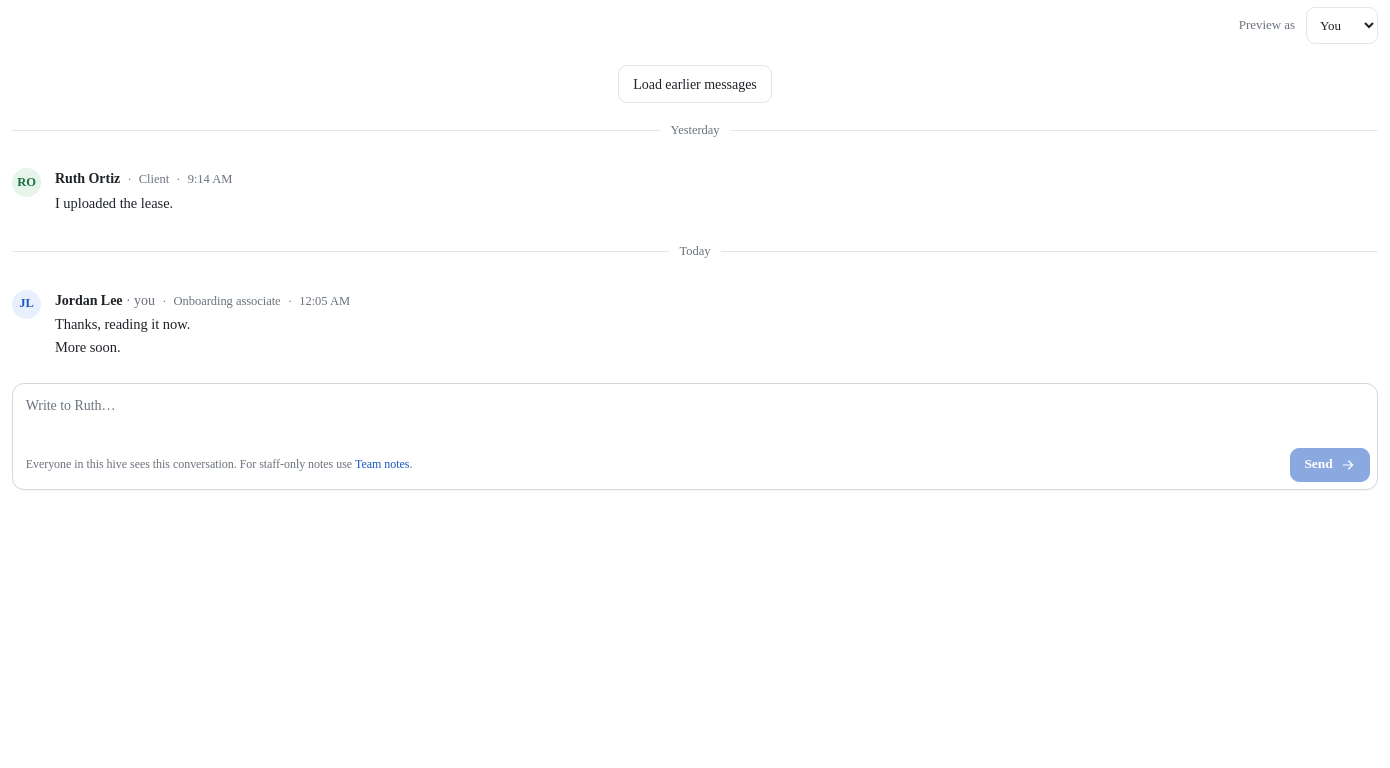
Test: HiveConversation › loads earlier messages with the keyset cursor
Click the button "Load earlier messages". click: (695, 84)
box: [618,65,772,104]
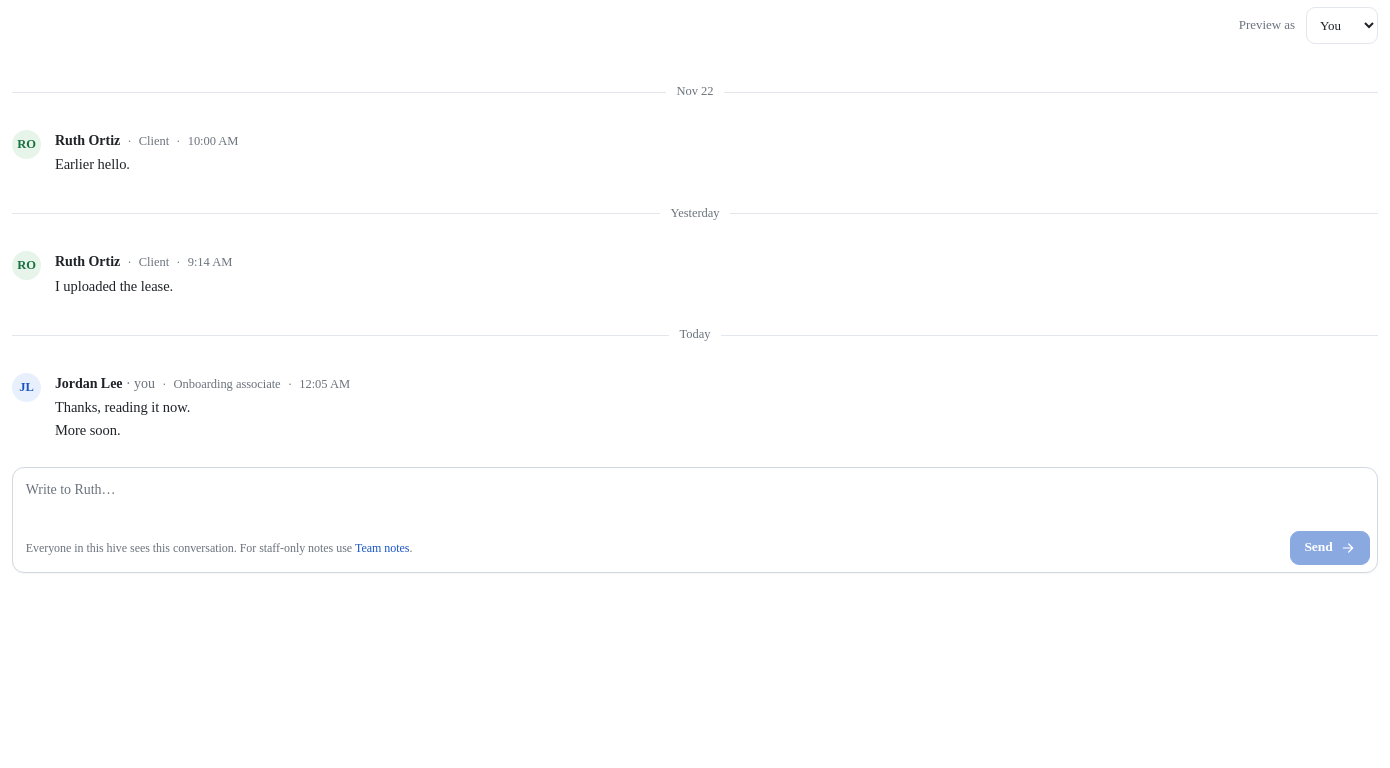
Now the element with test id "hive-message" shows "Earlier hello.", box [55,156,130,172]
Now the button "Load earlier messages" is gone
